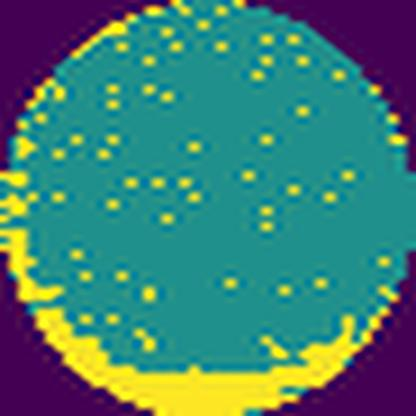Edge-Loc: (2, 226, 400, 416)
